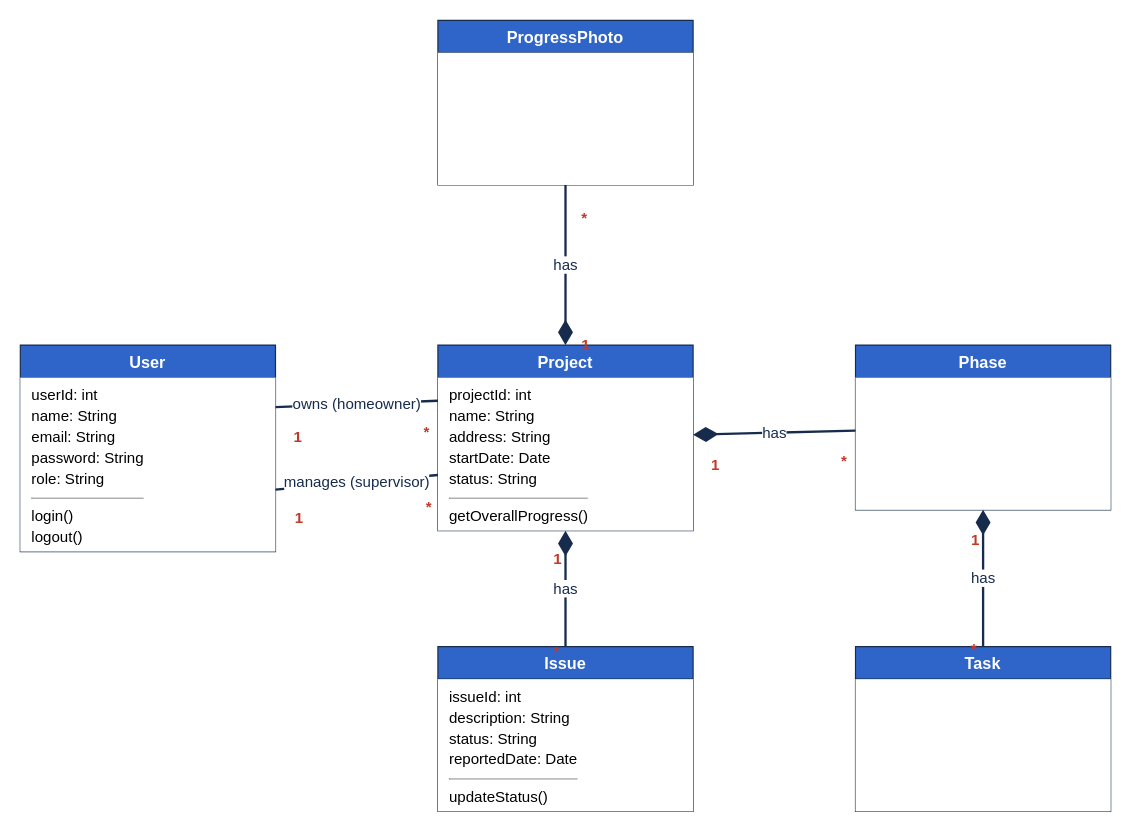
This 1131x832 diagram has some shape labels left out. The shapes that lost their labels are listed below. From the top down, each one's centre as x and y in pixels, then its label:
pixel 565 118: photoId: int filePath: String caption: String uploadDate: Date upload()
pixel 982 443: phaseId: int name: String status: String progress: int updateProgress()
pixel 982 745: taskId: int name: String status: String progress: int updateStatus()
